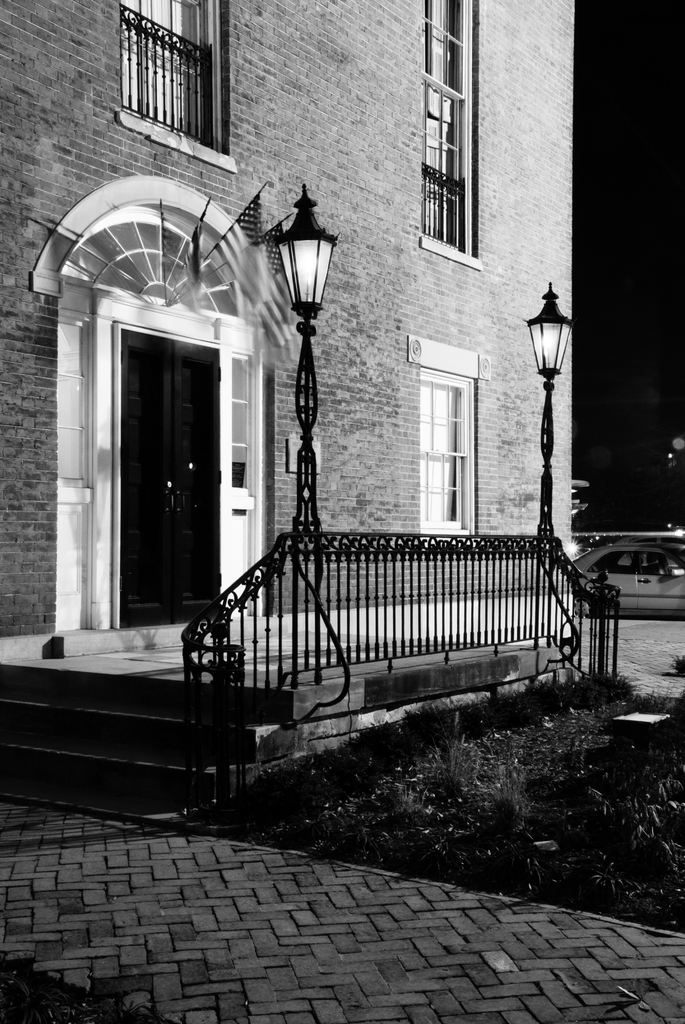Car: (575, 522, 685, 597)
